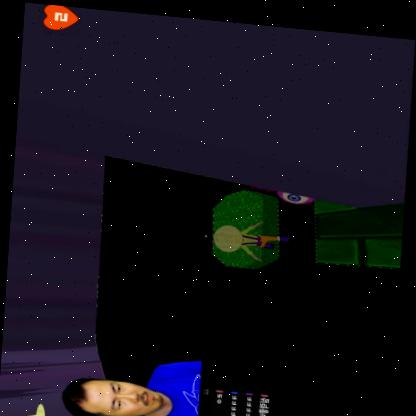streamer: (62, 345, 205, 416)
